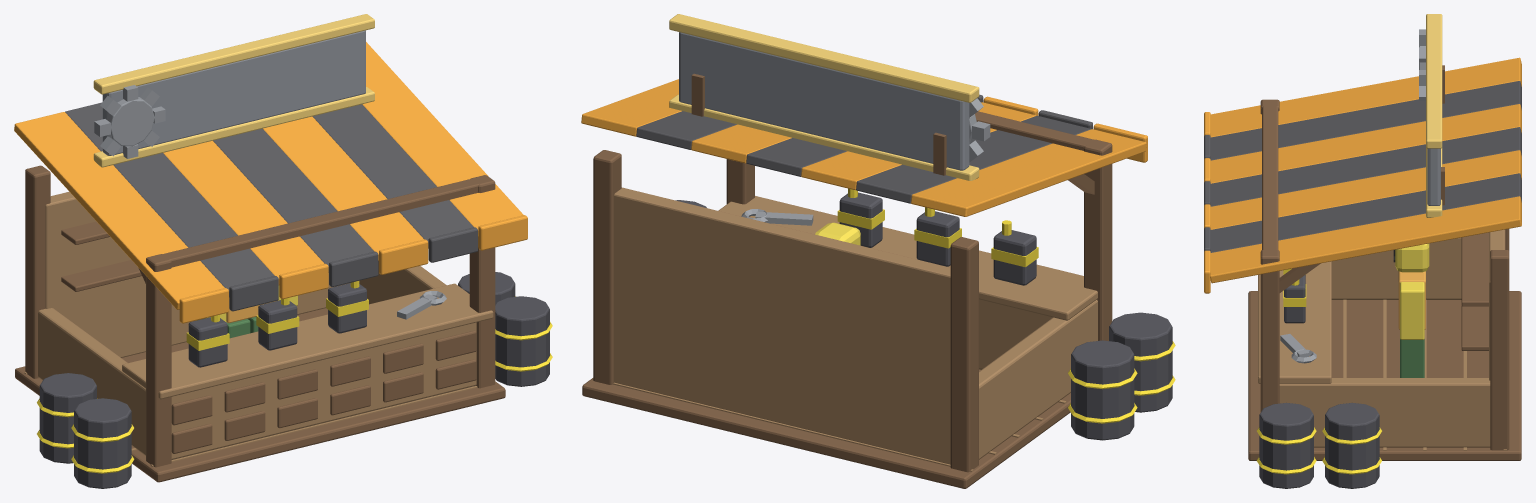
The model's file is puesto_equipamientos.obj.
3 renders of one model, left to right at view 1: azimuth 30°, elevation 25°; view 2: azimuth 150°, elevation 25°; view 3: azimuth 270°, elevation 25°, orthographic. The views are drawn at different scales.
Visible parts, largest first — view 1: Puesto, Cartel, Vendedor; view 2: Puesto, Cartel, Vendedor; view 3: Puesto, Vendedor, Cartel.
Boxes of the visible parts, x1,y1,x2,y2 form: Puesto: (14,14,552,488); Cartel: (102,30,365,155); Vendedor: (196,285,297,338); Puesto: (581,14,1175,488); Cartel: (679,32,969,170); Vendedor: (815,222,860,245); Puesto: (1204,14,1521,488); Vendedor: (1393,243,1429,377); Cartel: (1427,148,1440,205).
Size of the model in its own units: 9.5 by 6.14 by 5.81.
Materials: 1 (1 with a texture image).
